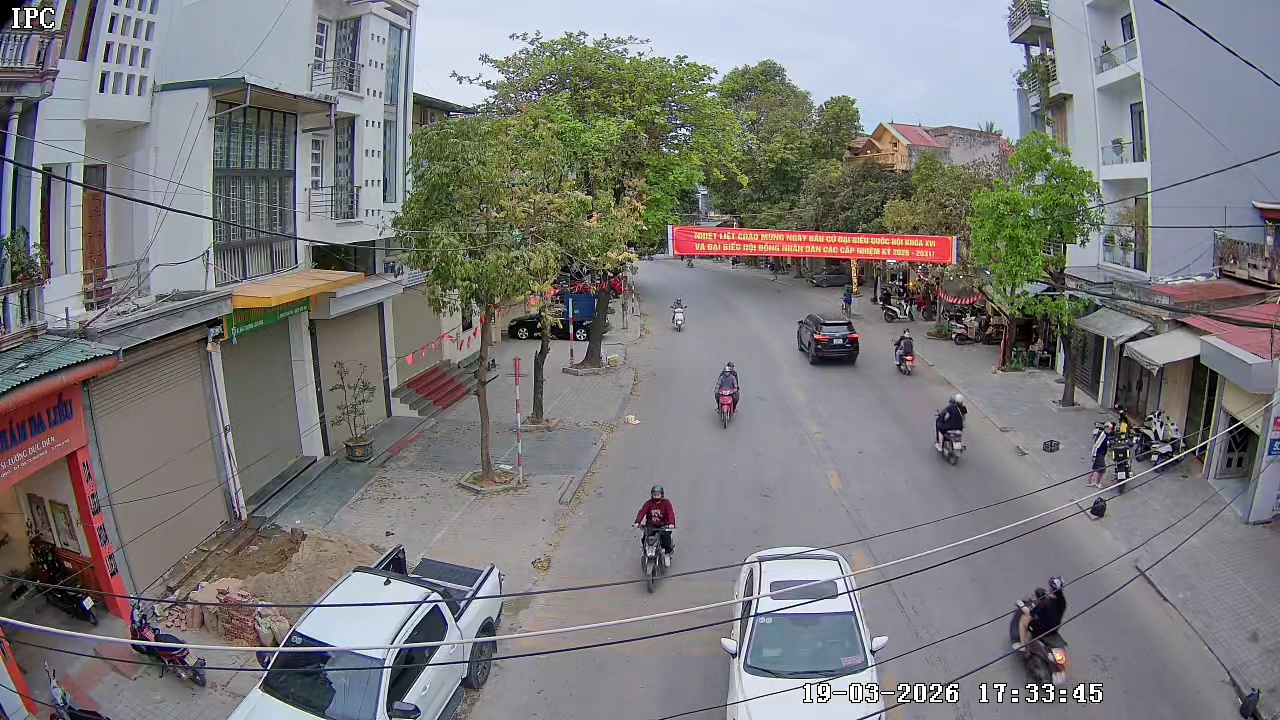bike: (634, 483, 679, 594), (837, 280, 857, 314)
car: (719, 544, 889, 719), (806, 313, 861, 366)
motorbike: (1008, 574, 1072, 692), (633, 483, 679, 594), (932, 394, 969, 466), (713, 368, 738, 430), (893, 330, 915, 376), (669, 298, 687, 331)
